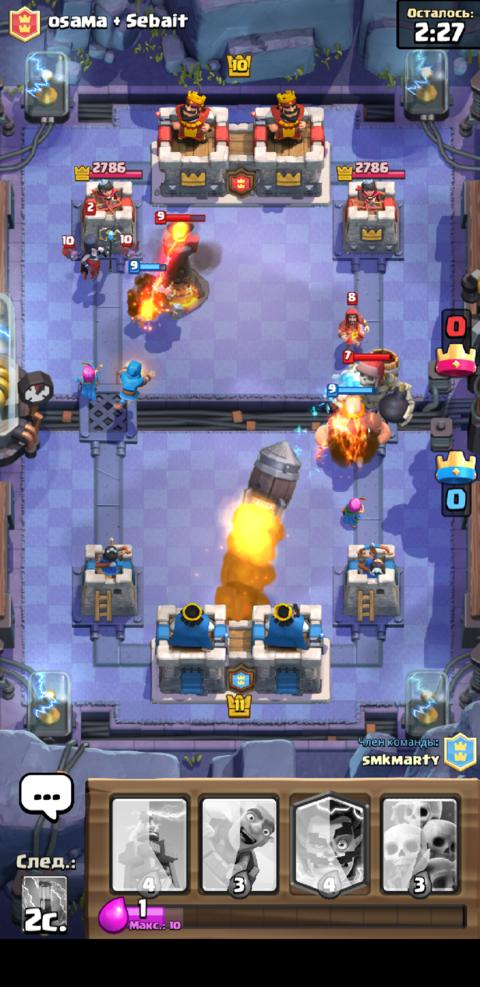ally_archer: (73, 360, 104, 401), (338, 494, 368, 529)
ally_giant: (314, 383, 390, 458)
ally_hog_rider: (126, 259, 177, 331)
ally_rocket: (237, 438, 302, 521)
ally_wizard: (110, 358, 155, 409)
enemy_bat: (115, 232, 138, 259), (60, 235, 78, 260)
enemy_giant_skeleton: (340, 347, 415, 429)
enemy_inferno_tower: (152, 210, 209, 314)
enemy_night_witch: (78, 199, 111, 280)
enemy_wizard: (336, 291, 369, 347)
